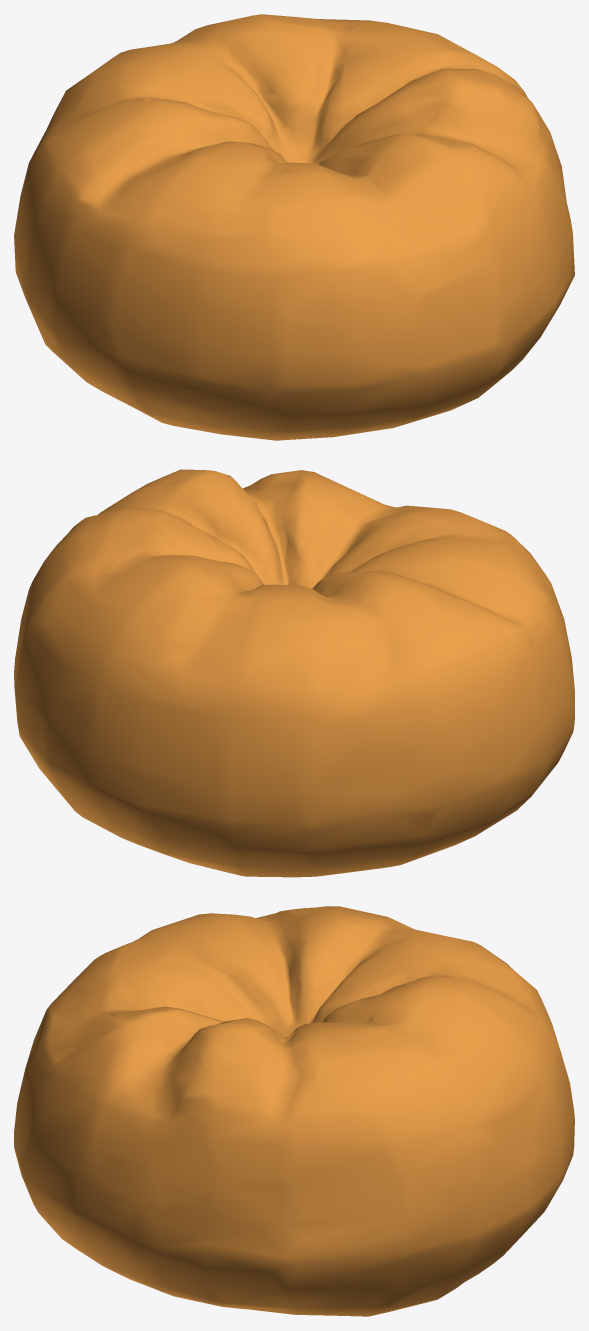
Rendered from chaise_3.glb.
The picture shows the model from 3 angles, top to bottom: view 1: azimuth 30°, elevation 25°; view 2: azimuth 150°, elevation 25°; view 3: azimuth 270°, elevation 25°; orthographic projection.
Visible parts, largest first — view 1: Mesh_0; view 2: Mesh_0; view 3: Mesh_0.
Boxes of the visible parts, left/top/right/bottom form: Mesh_0: left=14, top=14, right=574, bottom=440; Mesh_0: left=14, top=469, right=574, bottom=877; Mesh_0: left=14, top=906, right=574, bottom=1316.
Size of the model in its own units: 1.99 by 1.05 by 1.99.
